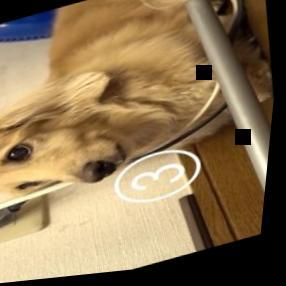nasal_discharge: (93, 155, 132, 187)
